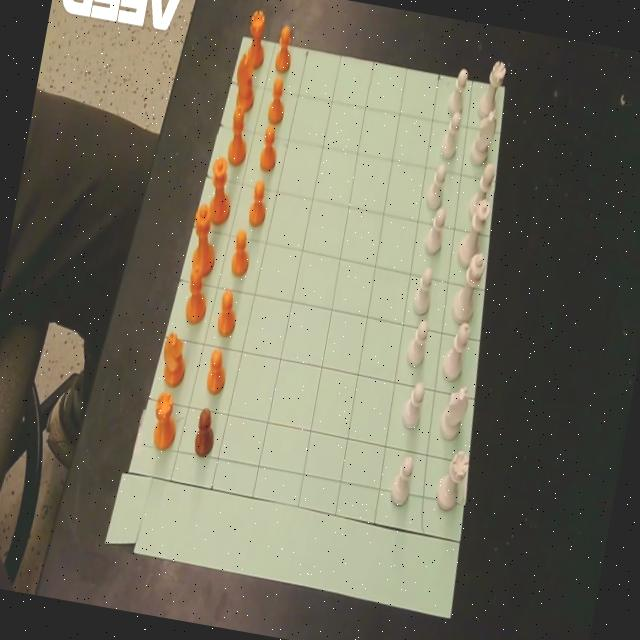orange_bishop: (185, 263, 206, 322), (228, 106, 246, 165)
orange_king: (192, 204, 215, 276)
orange_knight: (163, 332, 185, 387), (236, 51, 253, 112)
orange_pawn: (195, 407, 214, 456), (206, 349, 225, 394), (218, 289, 236, 335), (231, 231, 249, 276), (275, 25, 291, 71), (260, 125, 276, 170), (268, 78, 283, 123), (250, 180, 265, 225)
orange_queen: (210, 158, 230, 224)
orange_rook: (153, 393, 176, 450), (250, 10, 265, 68)
white_bishop: (443, 322, 469, 380), (469, 163, 495, 216)
white_king: (453, 253, 485, 323)
white_knight: (440, 386, 467, 439), (472, 110, 496, 164)
white_pawn: (392, 456, 413, 505), (402, 382, 424, 428), (425, 207, 446, 254), (407, 321, 428, 366), (441, 111, 461, 158), (413, 268, 433, 314), (426, 163, 446, 209), (448, 68, 468, 114)
white_queen: (458, 198, 490, 267)
white_rook: (436, 451, 469, 510), (478, 61, 505, 117)
